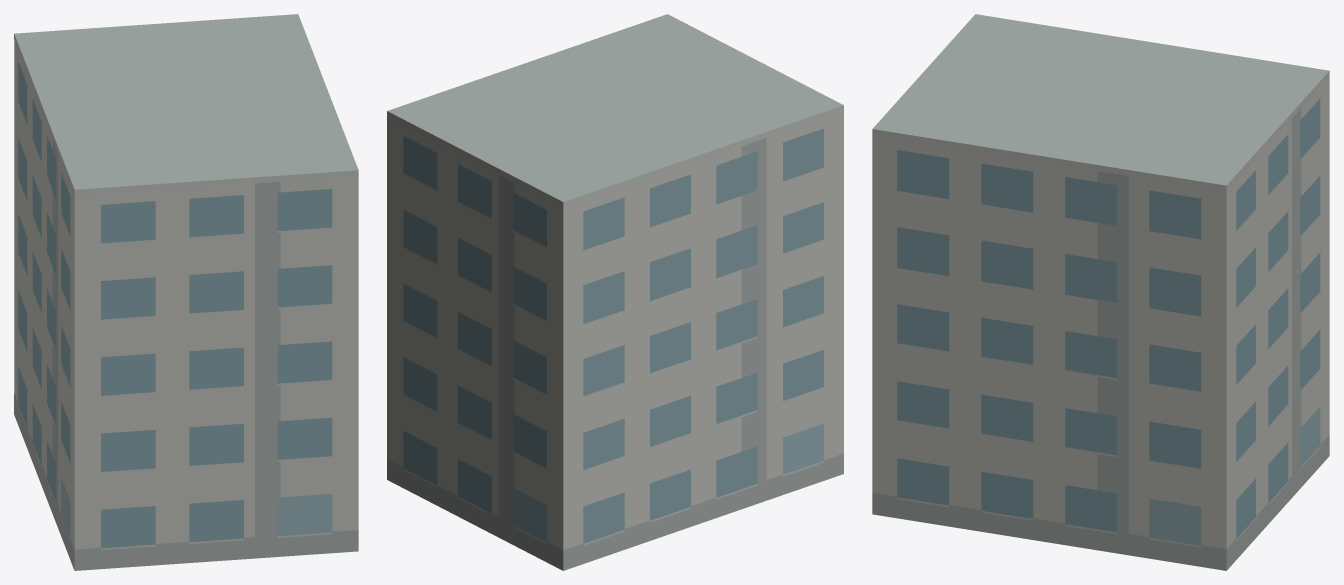
File: residential-232d6e00-ece8-4356-bd95-87476220a775.glb
3 views of the same model, side by side, from view 1: azimuth 30°, elevation 25°; view 2: azimuth 150°, elevation 25°; view 3: azimuth 270°, elevation 25° (orthographic). The views are drawn at different scales.
Visible parts, largest first — view 1: residential-232d6e00-ece8-4356-bd95-87476220a775.tmp; view 2: residential-232d6e00-ece8-4356-bd95-87476220a775.tmp; view 3: residential-232d6e00-ece8-4356-bd95-87476220a775.tmp.
Boxes of the visible parts, x1=… form: residential-232d6e00-ece8-4356-bd95-87476220a775.tmp: x1=14, y1=14, x2=358, y2=570; residential-232d6e00-ece8-4356-bd95-87476220a775.tmp: x1=387, y1=14, x2=843, y2=570; residential-232d6e00-ece8-4356-bd95-87476220a775.tmp: x1=872, y1=14, x2=1329, y2=570.
Size of the model in its own units: 14.57 by 15.25 by 16.41.
